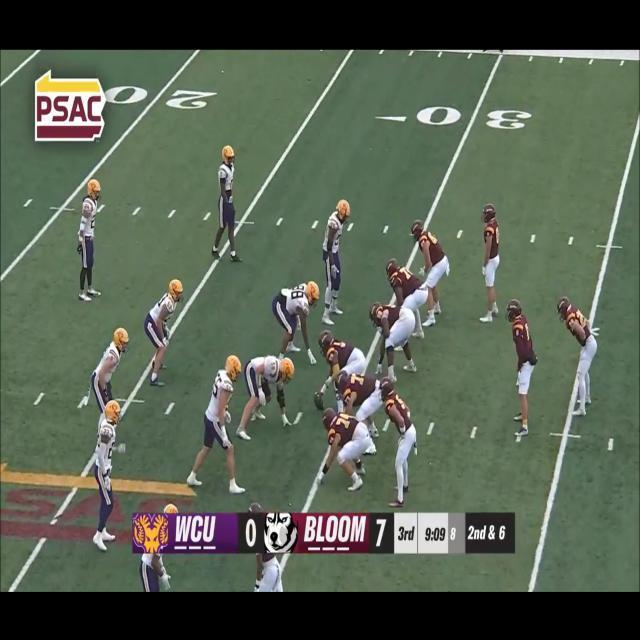football: (314, 392, 324, 411)
